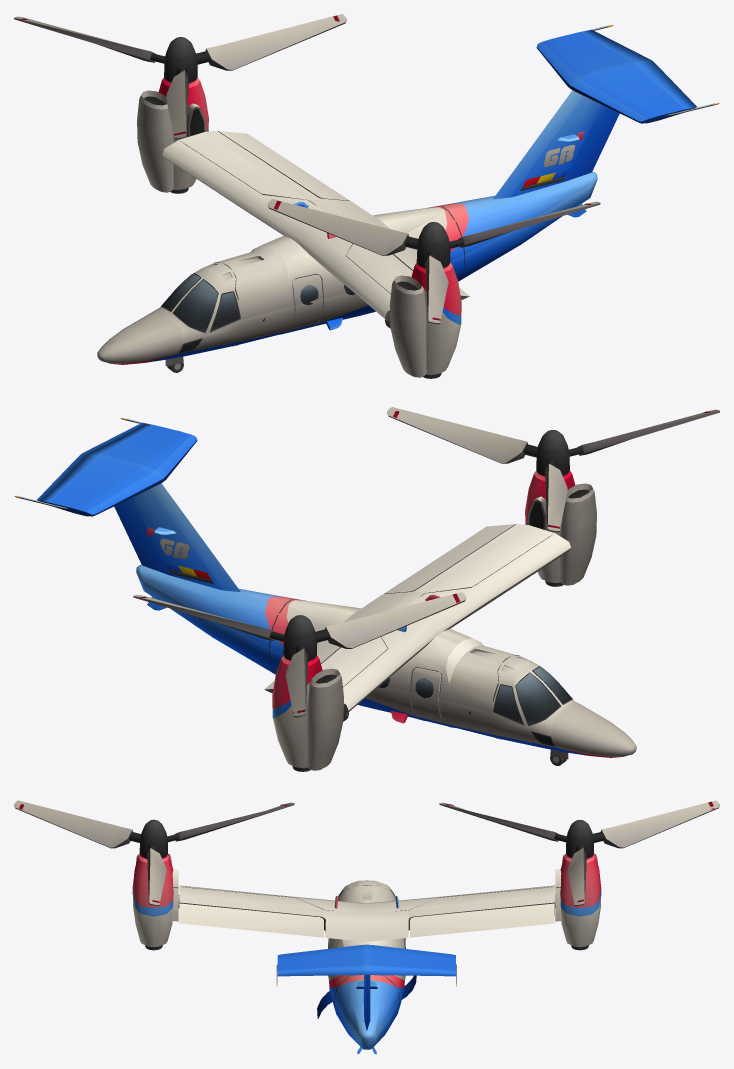
3 views of the same model, one above another, from view 1: azimuth 30°, elevation 25°; view 2: azimuth 150°, elevation 25°; view 3: azimuth 270°, elevation 25° (orthographic). The views are drawn at different scales.
Parts seen in each view (by area): view 1: _Combined_Mesh__Plane_3B_, Rotor_3B_L, Rotor_3B_R; view 2: _Combined_Mesh__Plane_3B_, Rotor_3B_L, Rotor_3B_R; view 3: _Combined_Mesh__Plane_3B_, Rotor_3B_L, Rotor_3B_R.
Boxes of the visible parts, x1,y1,x2,y2 form: _Combined_Mesh__Plane_3B_: (97, 25, 719, 378); Rotor_3B_L: (268, 199, 600, 324); Rotor_3B_R: (14, 14, 346, 139); _Combined_Mesh__Plane_3B_: (14, 418, 636, 771); Rotor_3B_L: (387, 407, 719, 532); Rotor_3B_R: (133, 592, 466, 717); _Combined_Mesh__Plane_3B_: (132, 853, 601, 1054); Rotor_3B_L: (14, 800, 294, 905); Rotor_3B_R: (439, 800, 719, 905).
Size of the model in its own units: 4146 by 1457 by 5297.
